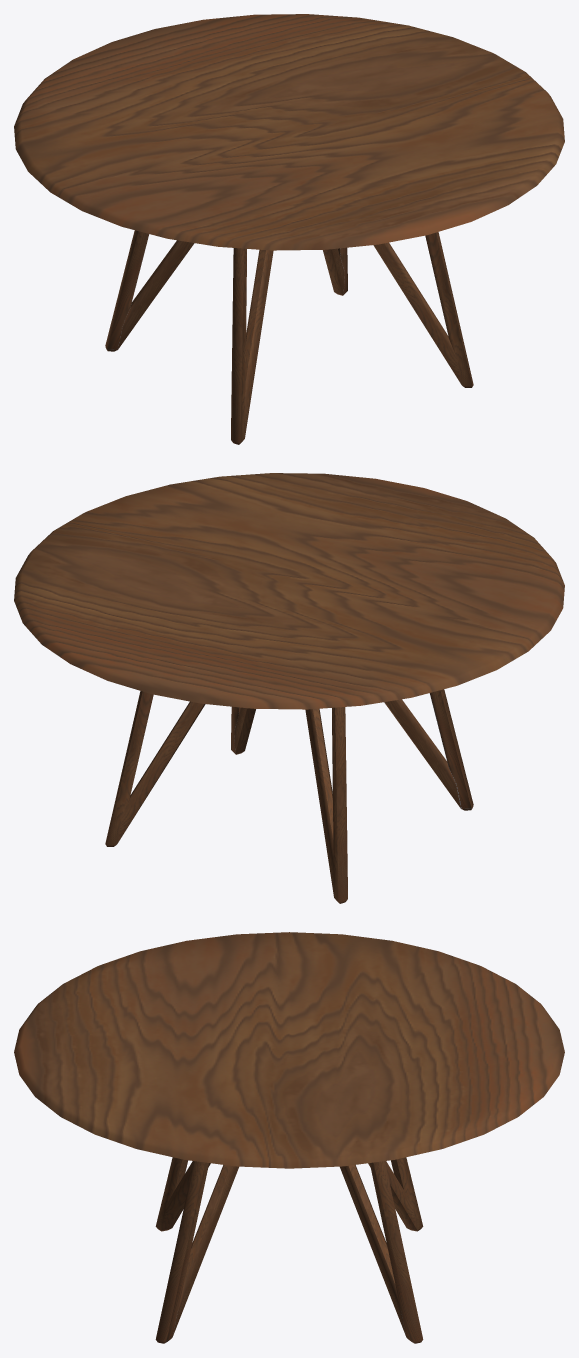
The model's file is Table5.glb.
The picture shows the model from 3 angles, top to bottom: view 1: azimuth 30°, elevation 25°; view 2: azimuth 150°, elevation 25°; view 3: azimuth 270°, elevation 25°; orthographic projection.
Visible parts, largest first — view 1: Cylinder; view 2: Cylinder; view 3: Cylinder.
Boxes of the visible parts, bbox=[...] form: Cylinder: bbox=[14, 14, 564, 444]; Cylinder: bbox=[14, 473, 564, 903]; Cylinder: bbox=[14, 932, 564, 1343].
Size of the model in its own units: 1.56 by 0.7551 by 1.56.
1 material, 1 textured.
